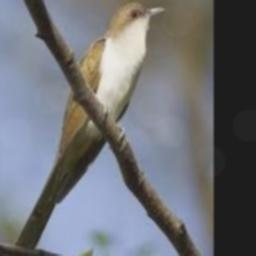Cuckoo: (5, 3, 167, 256)
